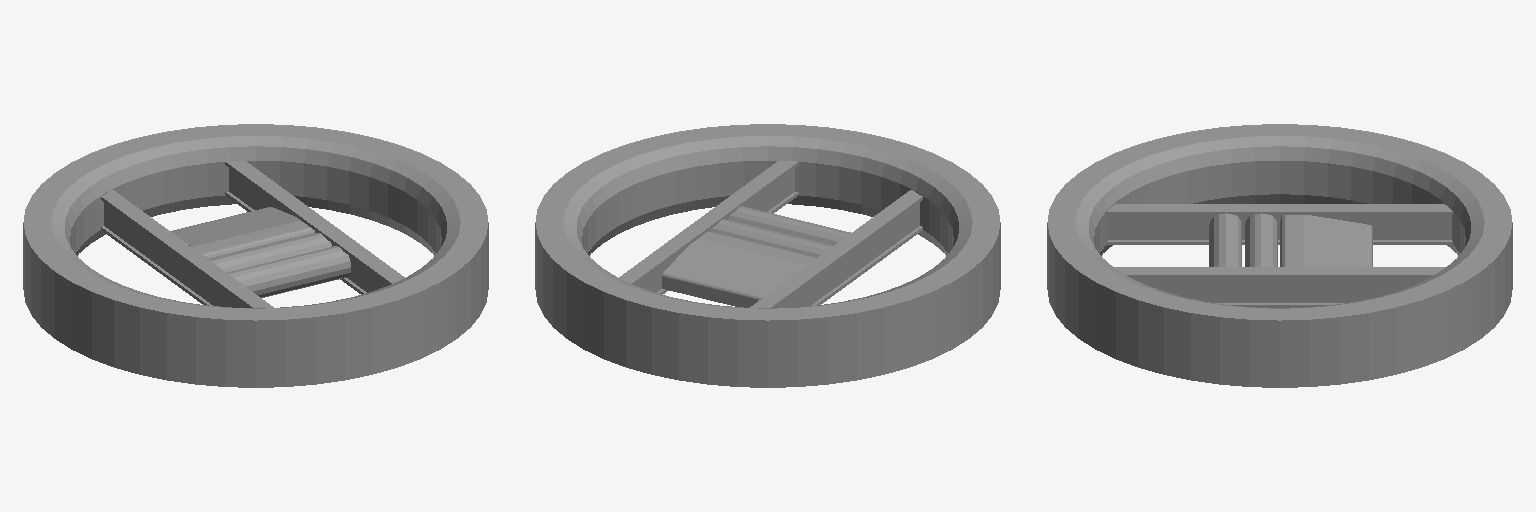
The model's file is 125_probe_c64.obj.
The picture shows the model from 3 angles: view 1: azimuth 30°, elevation 25°; view 2: azimuth 150°, elevation 25°; view 3: azimuth 270°, elevation 25°; orthographic projection.
Parts seen in each view (by area): view 1: Cylinder_Cylinder.002; view 2: Cylinder_Cylinder.002; view 3: Cylinder_Cylinder.002.
Part boxes in pixels (x1,y1,x2,y2): Cylinder_Cylinder.002: (23,124,488,387); Cylinder_Cylinder.002: (535,124,1000,387); Cylinder_Cylinder.002: (1047,124,1512,387).
Size of the model in its own units: 1.25 by 0.2 by 1.25.